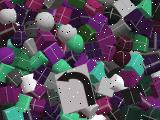Left: (54, 64, 96, 114)
